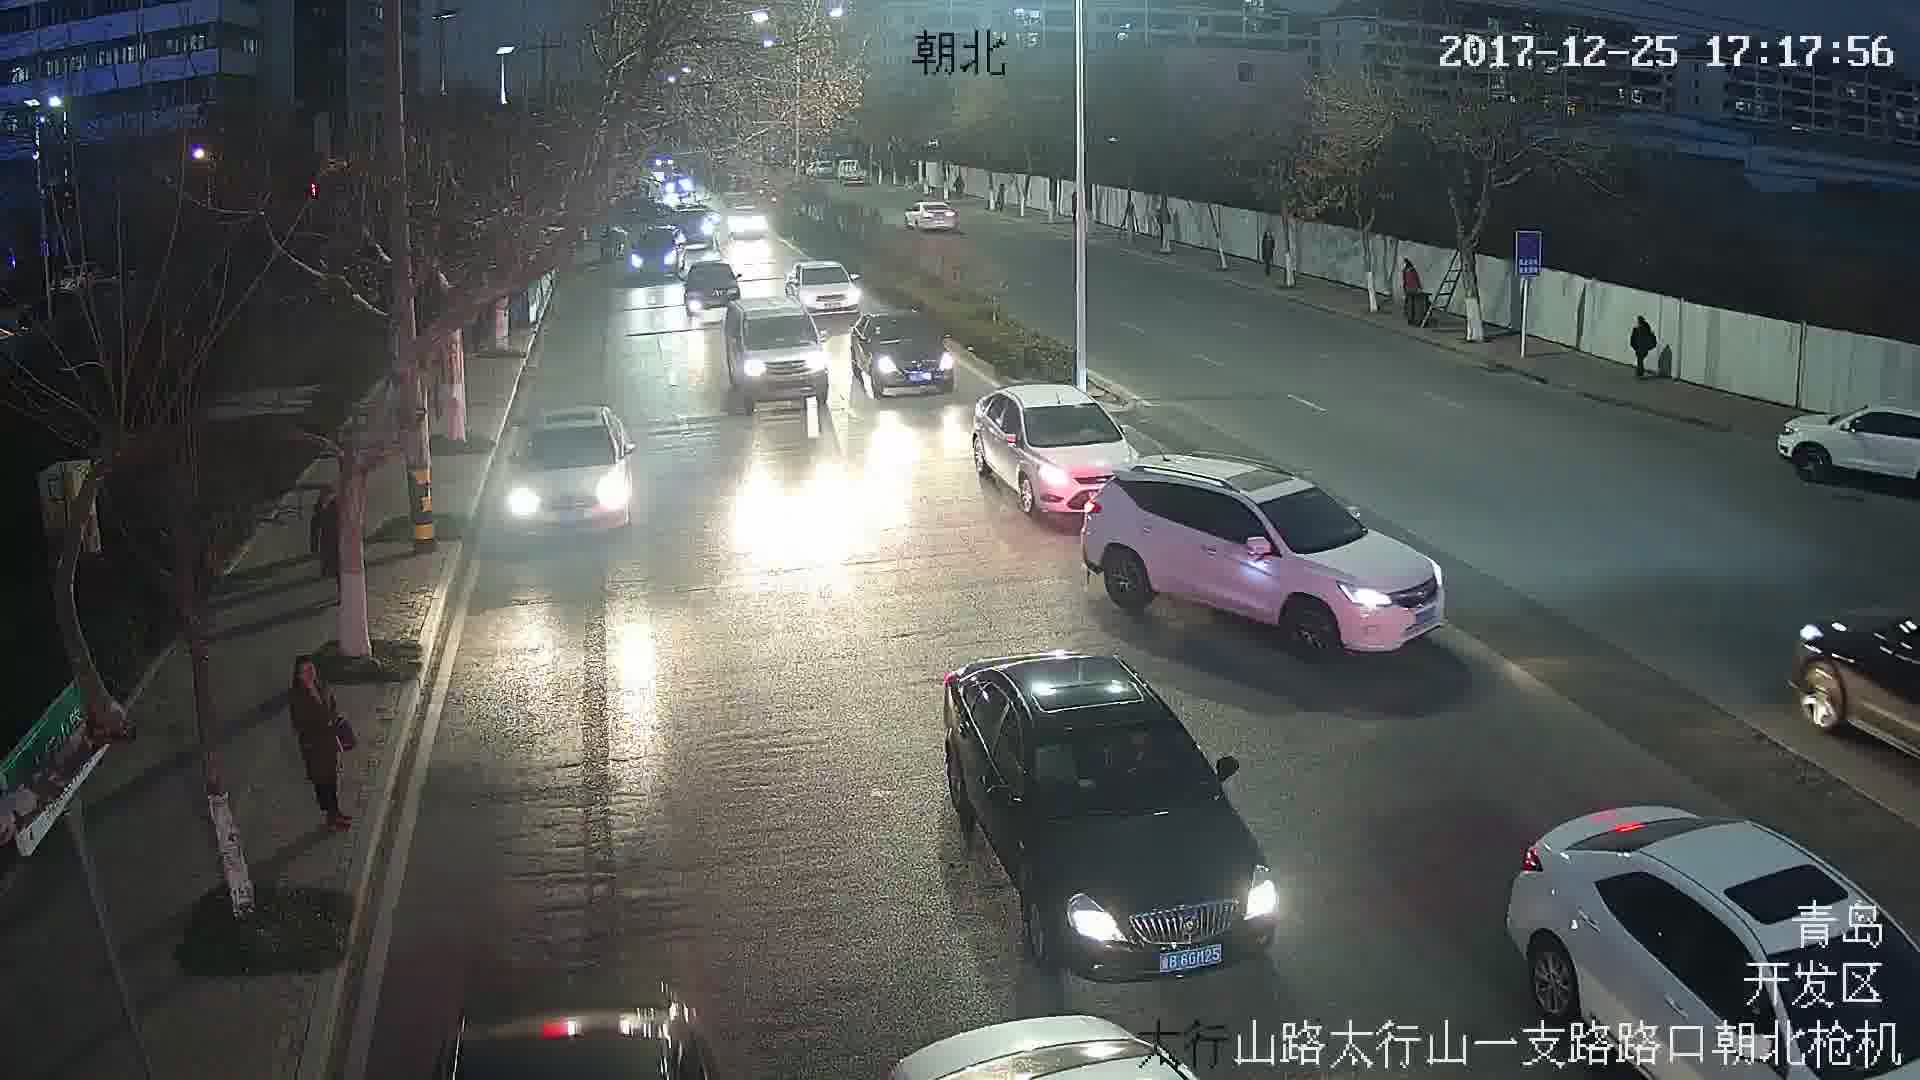car: (943, 652, 1280, 982), (1088, 455, 1448, 657), (977, 389, 1145, 513), (502, 409, 637, 534), (730, 298, 828, 405), (848, 319, 956, 398), (787, 259, 859, 312), (634, 231, 688, 287), (685, 269, 745, 313), (903, 198, 957, 234)
person: (287, 659, 362, 820), (309, 487, 341, 607), (1630, 316, 1659, 375), (1402, 256, 1421, 316), (1263, 225, 1275, 274)
